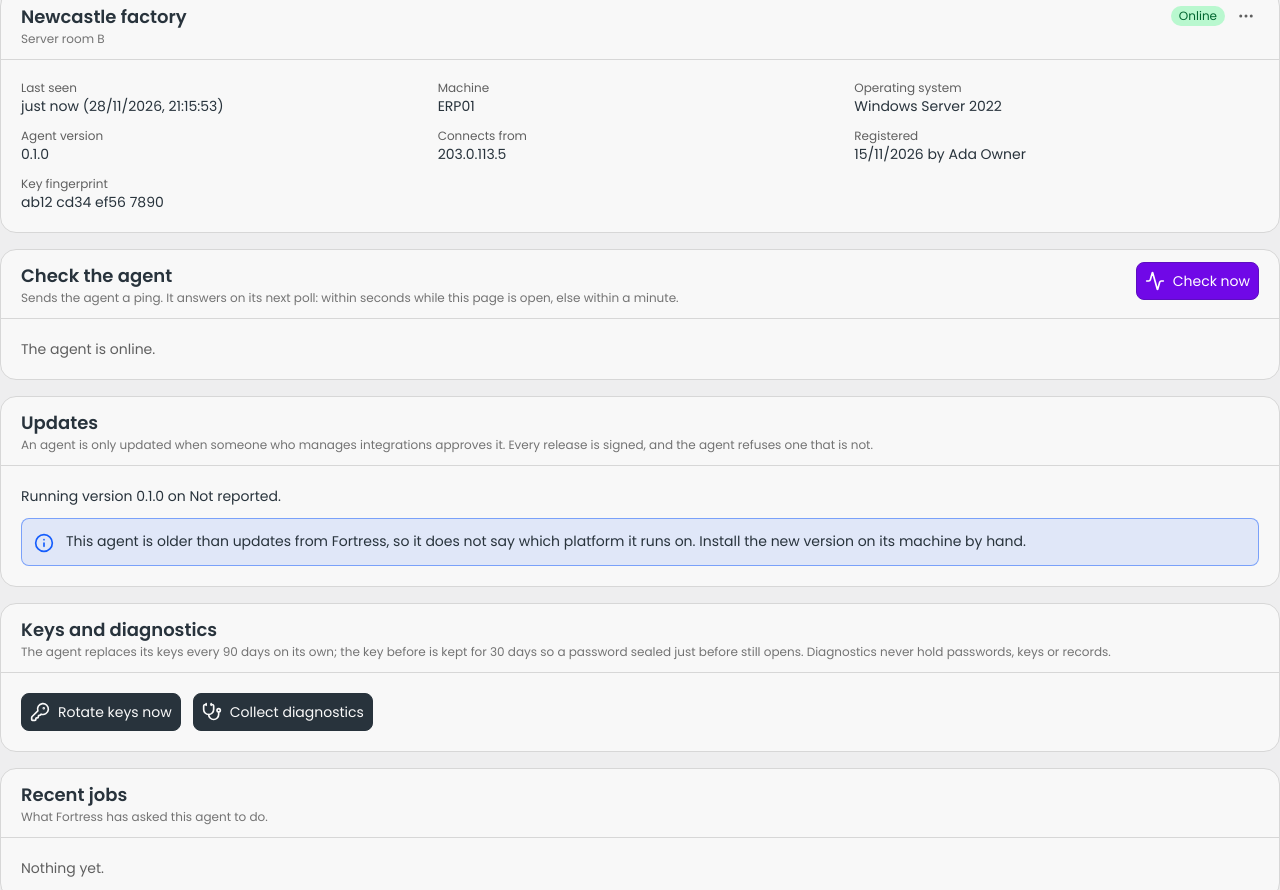
it: one agent › rotates the keys and collects diagnostics, showing the bundle in words
The image size is (1280, 890).
Click the button "Rotate keys now": (101, 712) [21, 693, 181, 731]
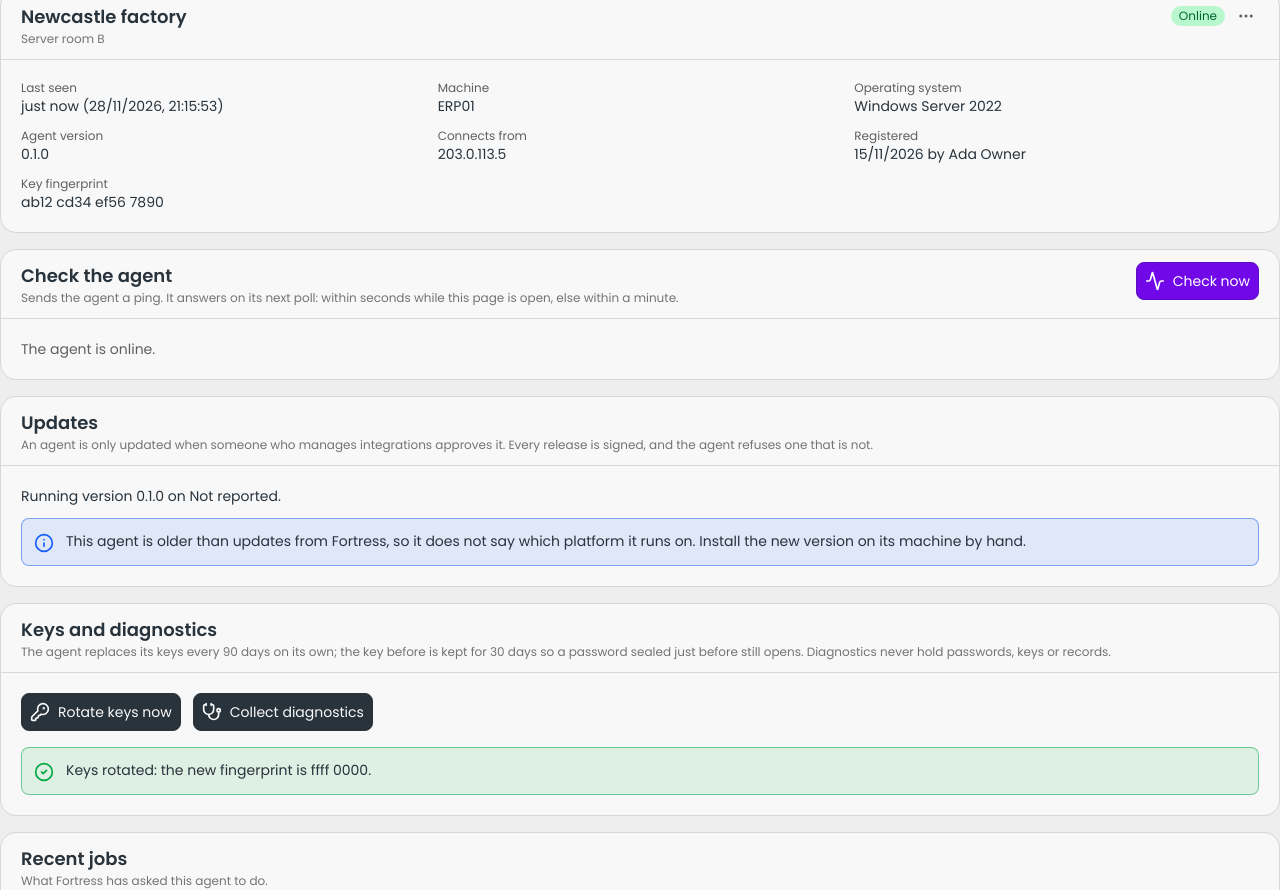
Result: the text "Keys rotated: the new fingerprint is ffff 0000." is shown at [66, 760, 371, 780]
Click the button "Collect diagnostics": (283, 712) [193, 693, 373, 731]
(page scrolled)
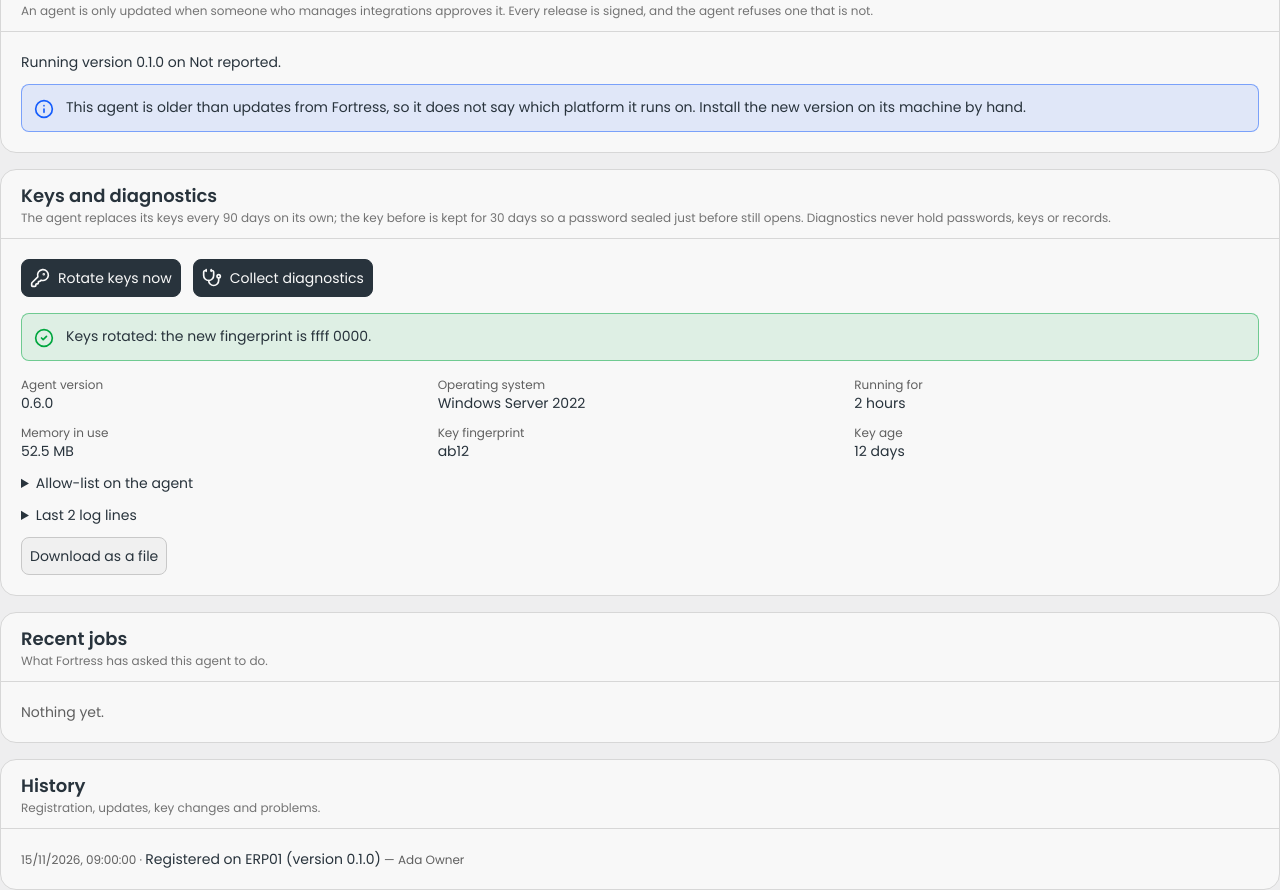
Result: the text "0.6.0" is shown at [21, 393, 53, 413]
Result: the text "52.5 MB" is shown at [21, 441, 74, 461]
Result: the text "2 hours" is shown at [854, 393, 906, 413]
